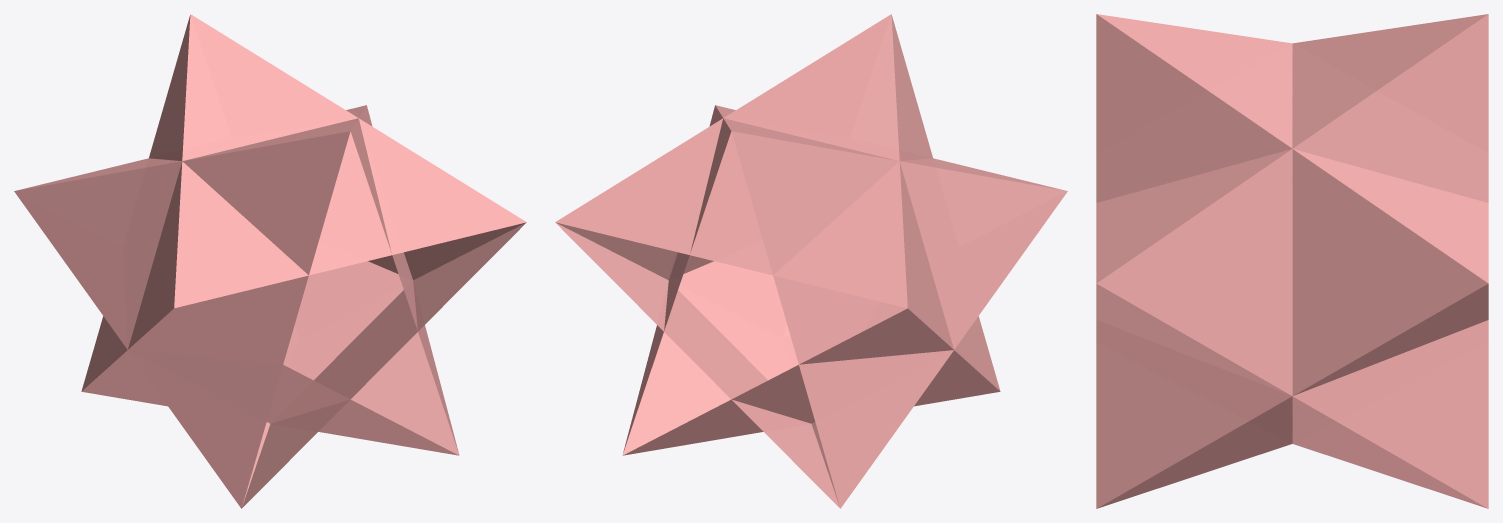
The model's file is PentagrammicAntiprismA.obj.
3 views of the same model, side by side, from view 1: azimuth 30°, elevation 25°; view 2: azimuth 150°, elevation 25°; view 3: azimuth 270°, elevation 25° (orthographic). The views are drawn at different scales.
Size of the model in its own units: 1 by 0.9511 by 0.7862.
